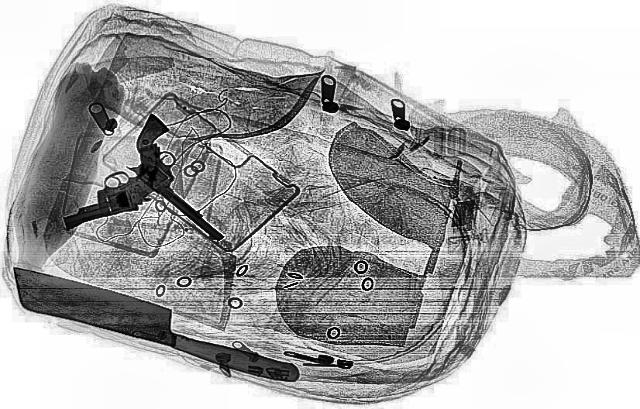Gun: (90, 111, 272, 243), (38, 143, 202, 241)
Knife: (0, 262, 326, 384)
